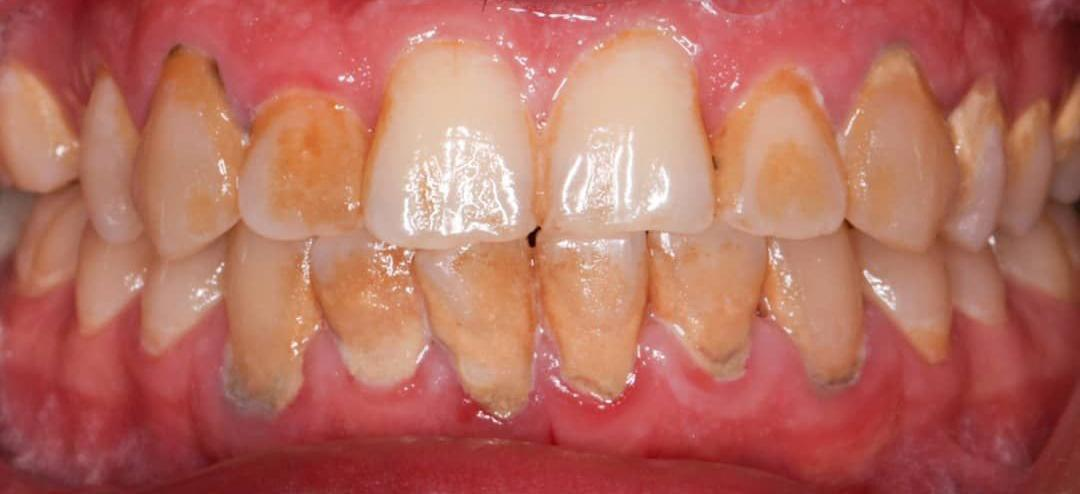LL1BC_mdecay: (862, 249, 953, 370)
LLCI_mdecay: (539, 237, 648, 403)
LLC_mdecay: (768, 243, 868, 386)
LLLI_mdecay: (654, 237, 761, 375)
LR1BC_healthy: (140, 246, 221, 353)
LRCI_mdecay: (433, 234, 536, 415)
LRC_mdecay: (221, 245, 307, 410)
LRLI_mdecay: (311, 237, 433, 391)
UL1BC_mdecay: (946, 69, 1004, 253)
ULCI_mdecay: (540, 29, 714, 234)
ULC_mdecay: (844, 64, 944, 248)
ULLI_mdecay: (716, 65, 843, 237)
UR1BC_healthy: (76, 76, 144, 243)
URCI_mdecay: (367, 37, 538, 244)
URC_mdecay: (145, 59, 244, 252)
URLI_mdecay: (244, 60, 361, 238)
